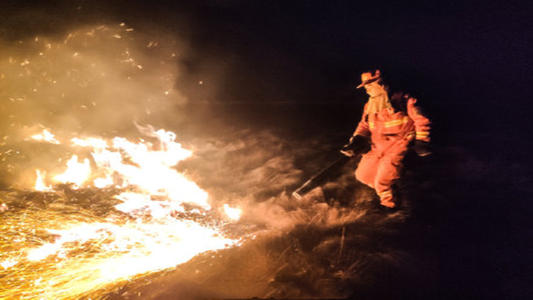fire: (29, 126, 224, 285)
